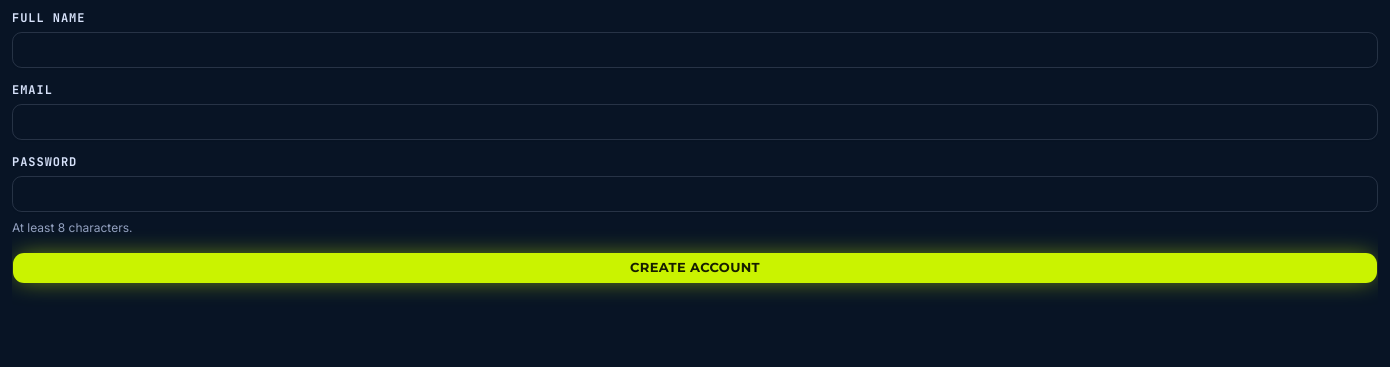
Scenario: RegisterForm › surfaces the sign-up error and stays put
The width and height of the screenshot is (1390, 367).
Step 1. Type "Rico Player" into the field labelled "Full name" → coordinates (695, 50), box [12,32,1378,68]
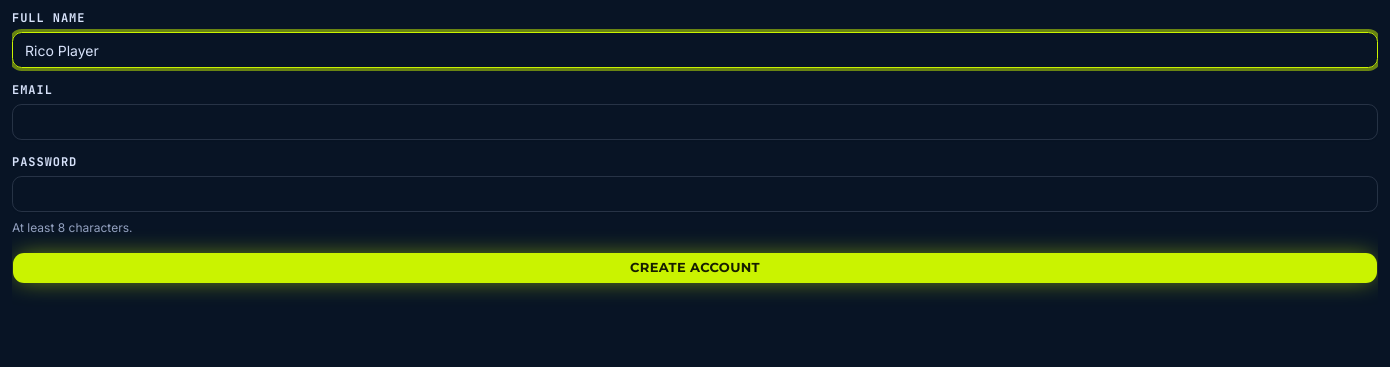
Step 2. Type "rico@pickleball.local" into the field labelled "Email" → coordinates (695, 122), box [12,104,1378,140]
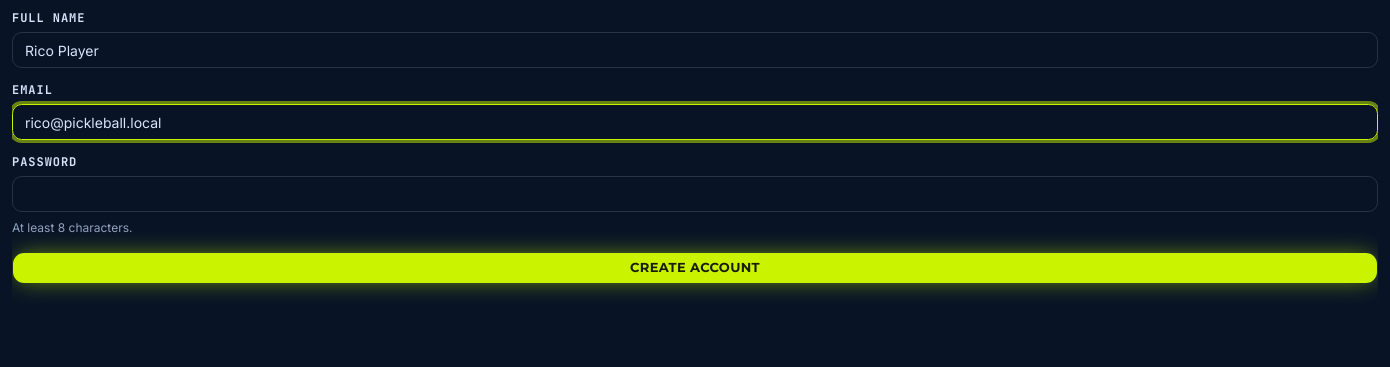
Step 3. Type "Secret123!" into the password field labelled "Password" → coordinates (695, 194), box [12,176,1378,212]
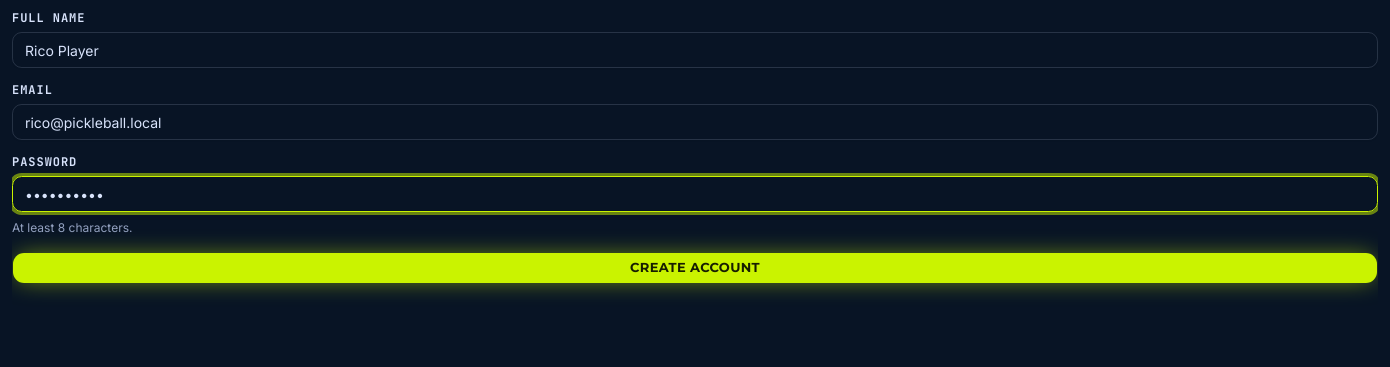
Step 4. Click the button "Create account" → coordinates (695, 268), box [12,252,1378,284]
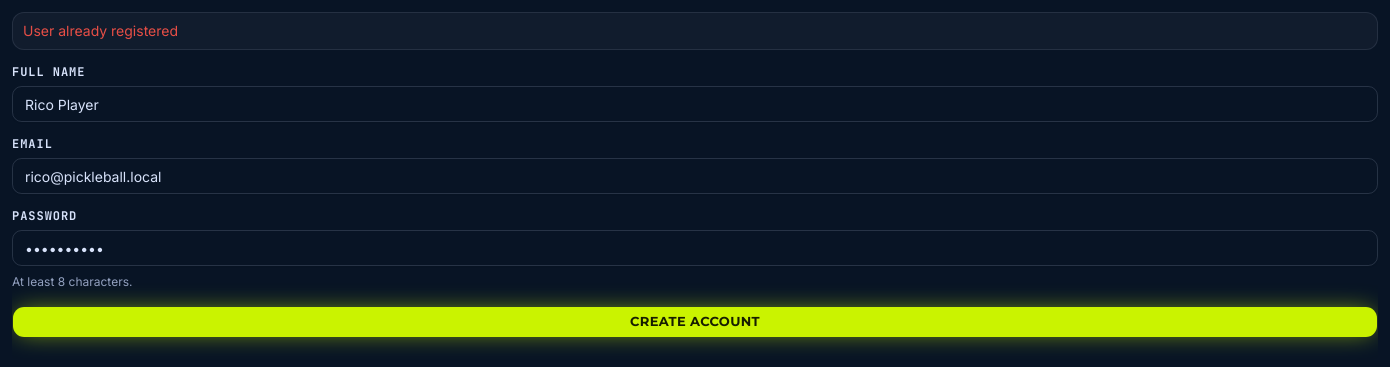
Now the text "User already registered" is shown, box [23,22,178,39]
